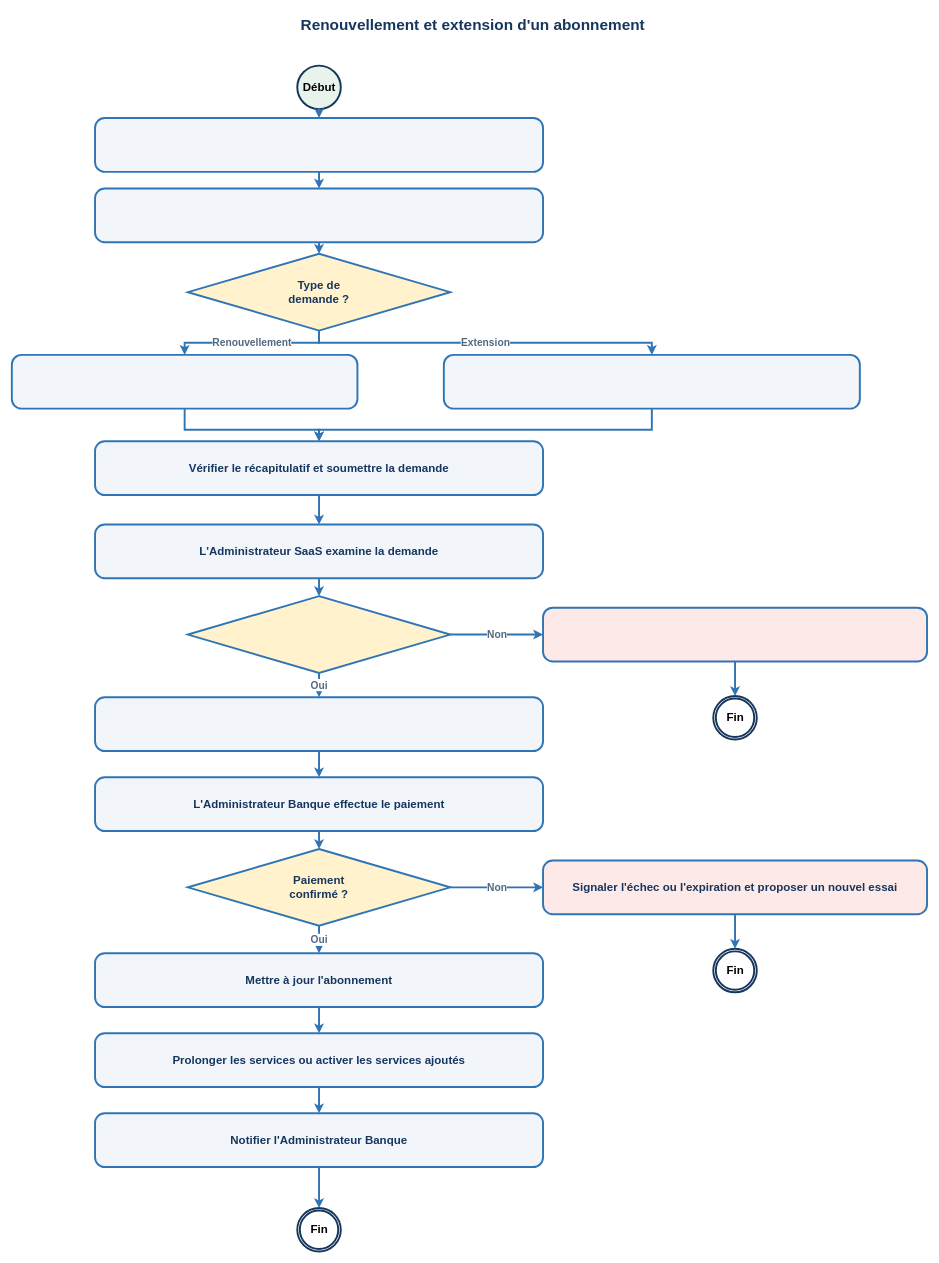
This 939x1263 diagram has some shape labels left out. The centre of each missing label's shape, as x and y in pixels:
Consulter l'abonnement et les services actifs: the point at 319,215
Créer et transmettre le lien de paiement Stripe: the point at 319,724
Demande validée ?: the point at 319,634
Demander le renouvellement de l'abonnement: the point at 184,381
Notifier le rejet ou demander une correction: the point at 735,634
S'authentifier en tant qu'Administrateur Banque: the point at 319,144
Sélectionner les nouveaux stores ou modules: the point at 651,381
